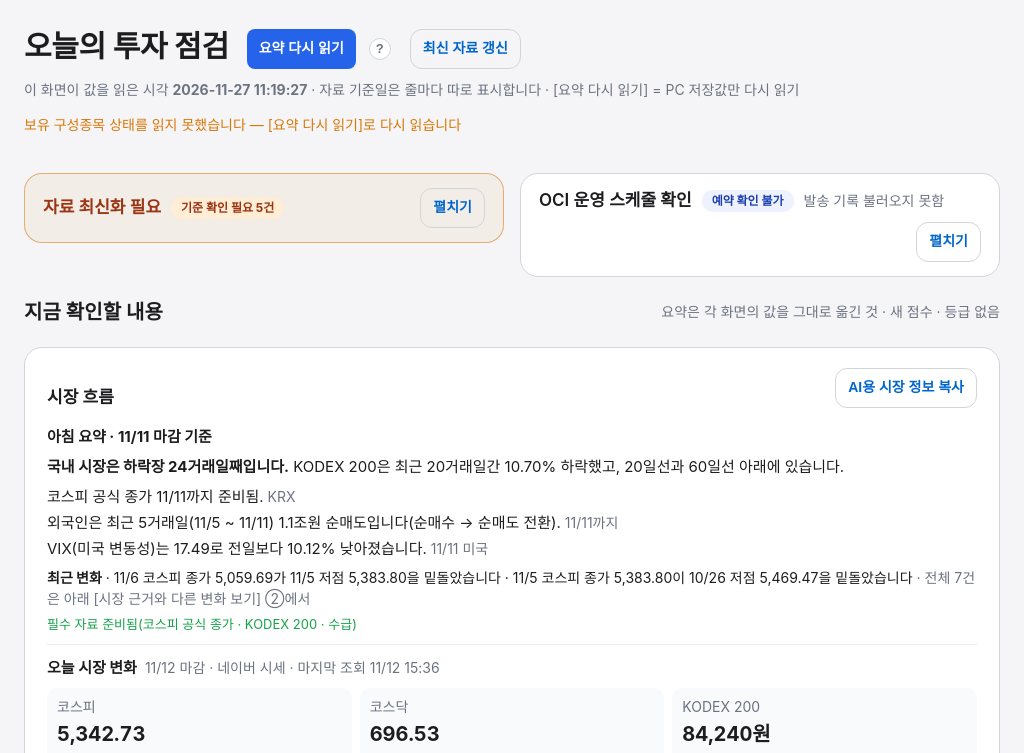
Test: 보완 R1 — 「시장 흐름」 맨 위 '지금 시장'(빠른 시세 3칸 · 흐름 문장) › 검증자 F10 — 갱신(③ 전일 자료 보충) 뒤 시장 판정은 새 값 · 아침 기준만 다시 읽기 실패 → 새 시장 판정 · 날짜만(이전 당일 판정 · 09:53 저장 안 남음)
Click the button "최신 자료 갱신": (465, 48) top-left (410, 28), bottom-right (521, 68)
Wait 1600 ms
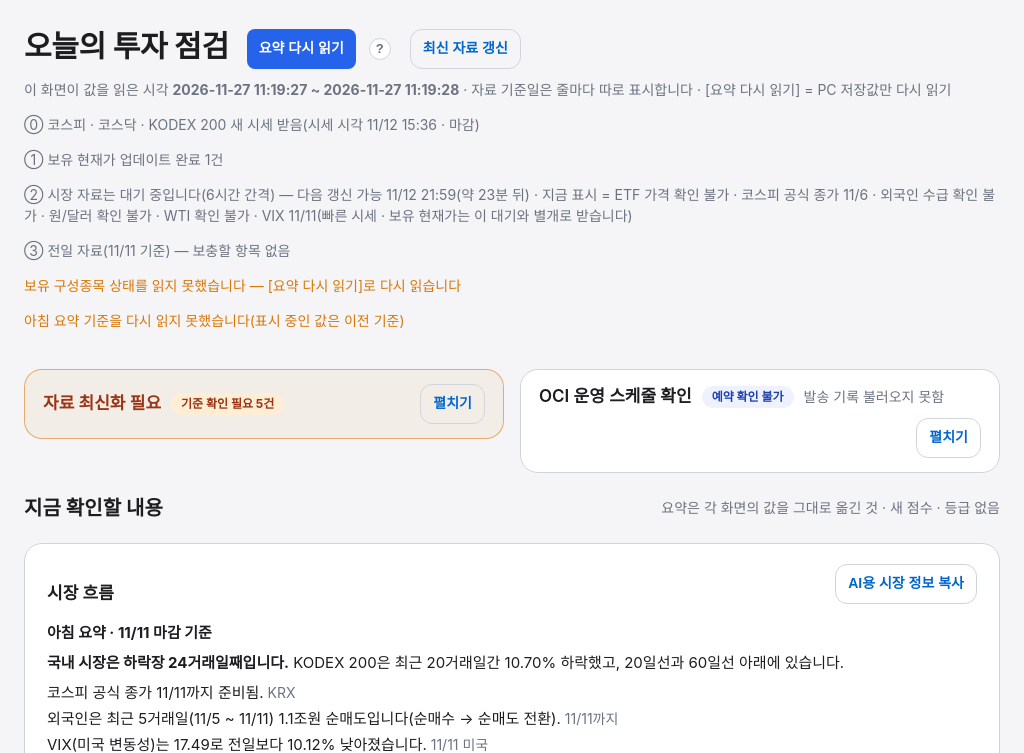
Check: the text with test id "tc-basis-result" reads "아침 요약 기준을 다시 읽지 못했습니다(표시 중인 값은 이전 기준)", box top-left (24, 312), bottom-right (404, 329)
